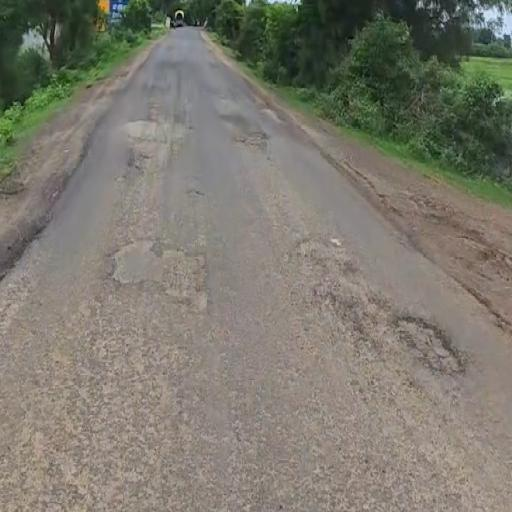pothole: (293, 210, 478, 448), (111, 90, 197, 196)
ravelling: (48, 210, 261, 483)
